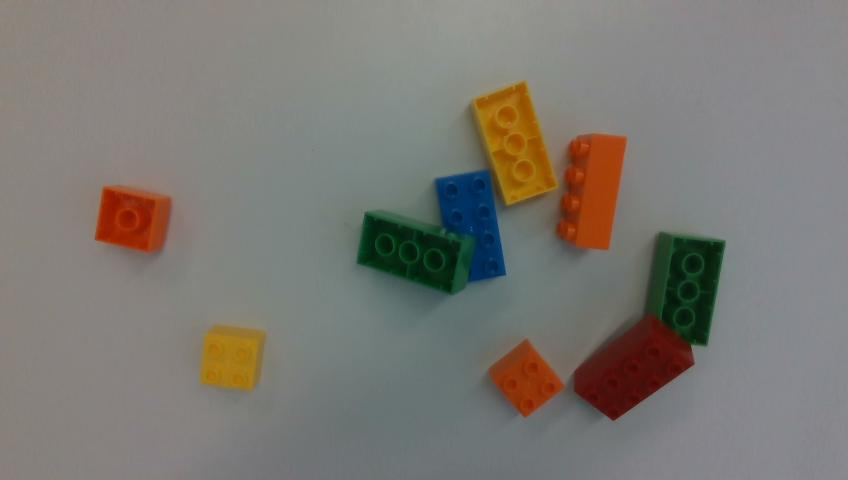2x2_orange: (490, 340, 563, 416), (96, 186, 170, 252)
2x2_yellow: (201, 325, 263, 388)
4x2_blue: (435, 172, 504, 281)
4x2_green: (357, 212, 473, 293), (645, 232, 725, 345)
4x2_orange: (557, 134, 625, 249)
4x2_red: (574, 314, 693, 419)
4x2_yellow: (472, 81, 557, 205)
